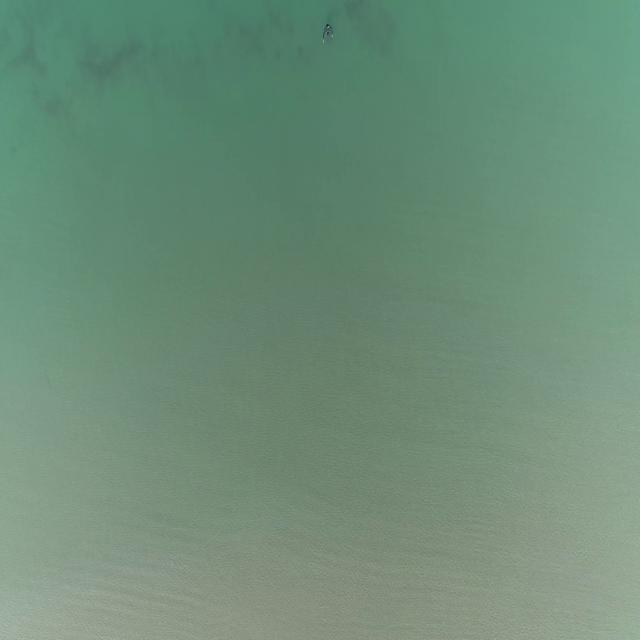person: (322, 22, 334, 43)
